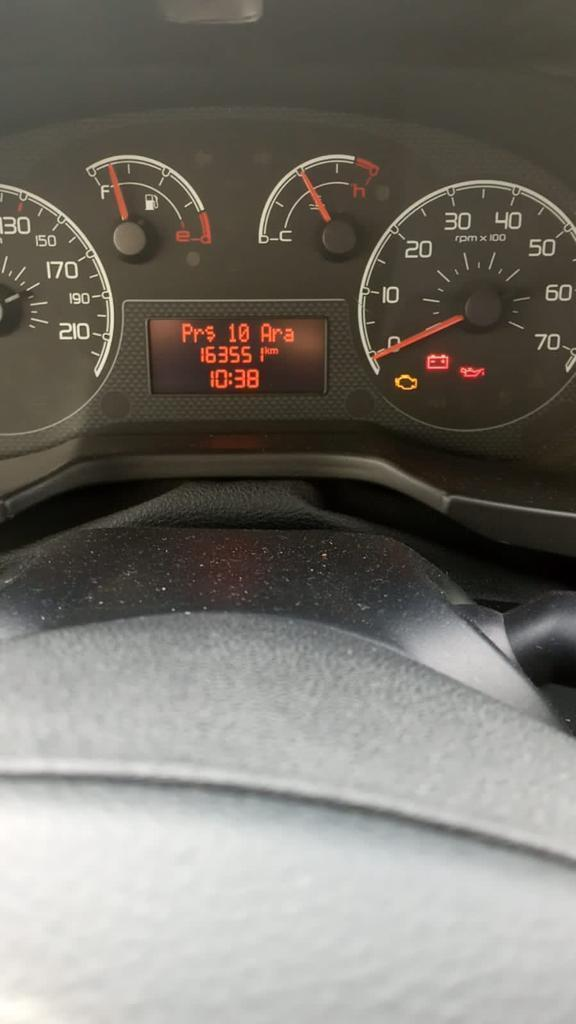0: (237, 322, 250, 342), (215, 368, 227, 389)
1: (227, 322, 236, 343), (198, 346, 204, 362), (209, 369, 214, 388), (259, 346, 264, 363)
3: (233, 368, 245, 389), (217, 345, 228, 363)
5: (228, 345, 240, 363), (240, 345, 252, 363)
6: (205, 345, 216, 363)
8: (246, 368, 259, 388)
X: (180, 321, 192, 344), (259, 322, 272, 343), (192, 327, 204, 344), (204, 324, 215, 342), (283, 327, 296, 342), (272, 327, 283, 343), (270, 347, 279, 355), (228, 371, 233, 385), (264, 345, 269, 355)
odometer: (142, 313, 332, 398)
